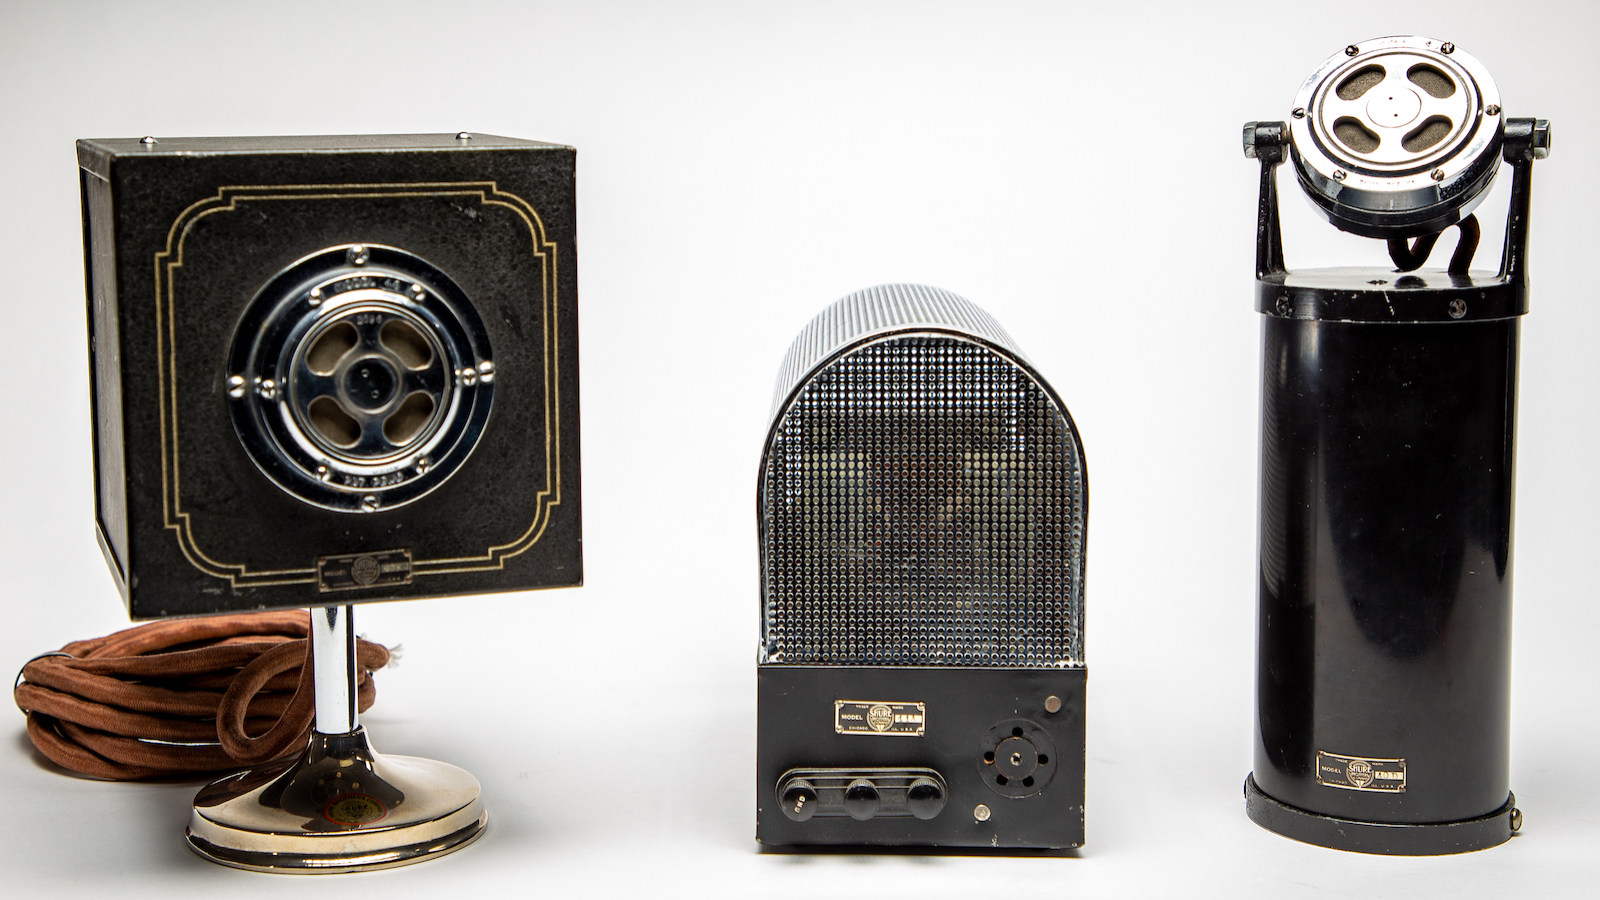microphone: (71, 127, 592, 879), (1237, 32, 1529, 868), (749, 284, 1095, 863)
